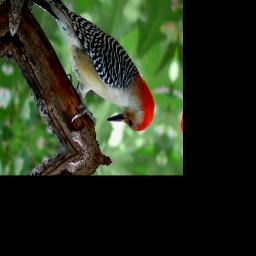Woodpecker: (11, 0, 170, 146)
